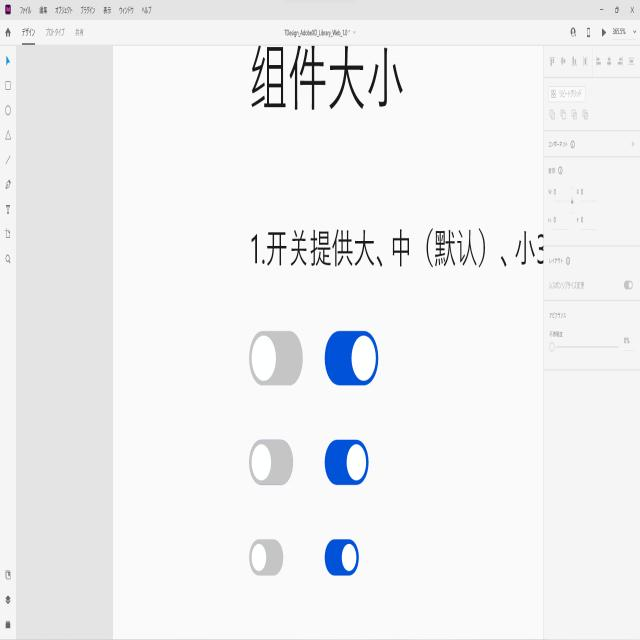toggle: (325, 330, 379, 387), (248, 332, 304, 386), (324, 440, 369, 486), (249, 440, 294, 486), (248, 540, 284, 577), (324, 540, 360, 576)
